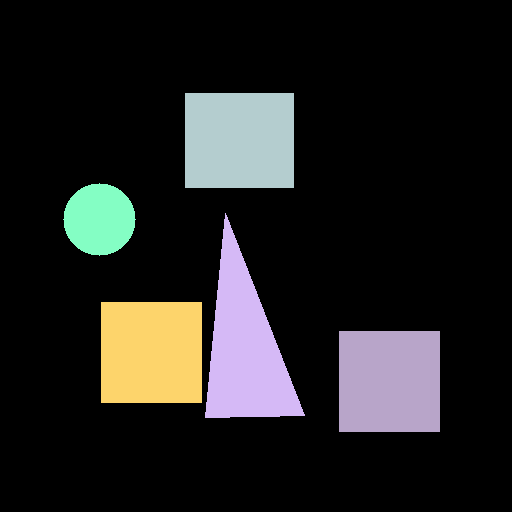circle: (63, 183, 135, 255)
rectangle: (185, 93, 293, 187)
square: (339, 331, 439, 431), (101, 302, 201, 402)
triangle: (205, 213, 304, 417)
